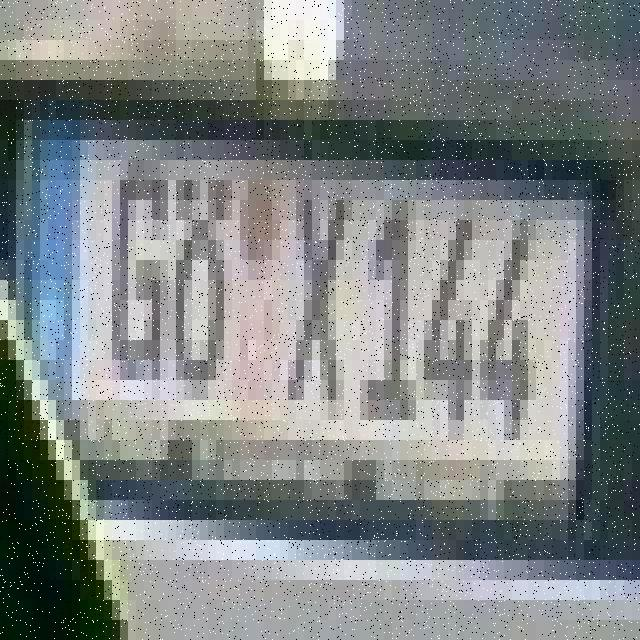licenseplate: (8, 38, 618, 640)
